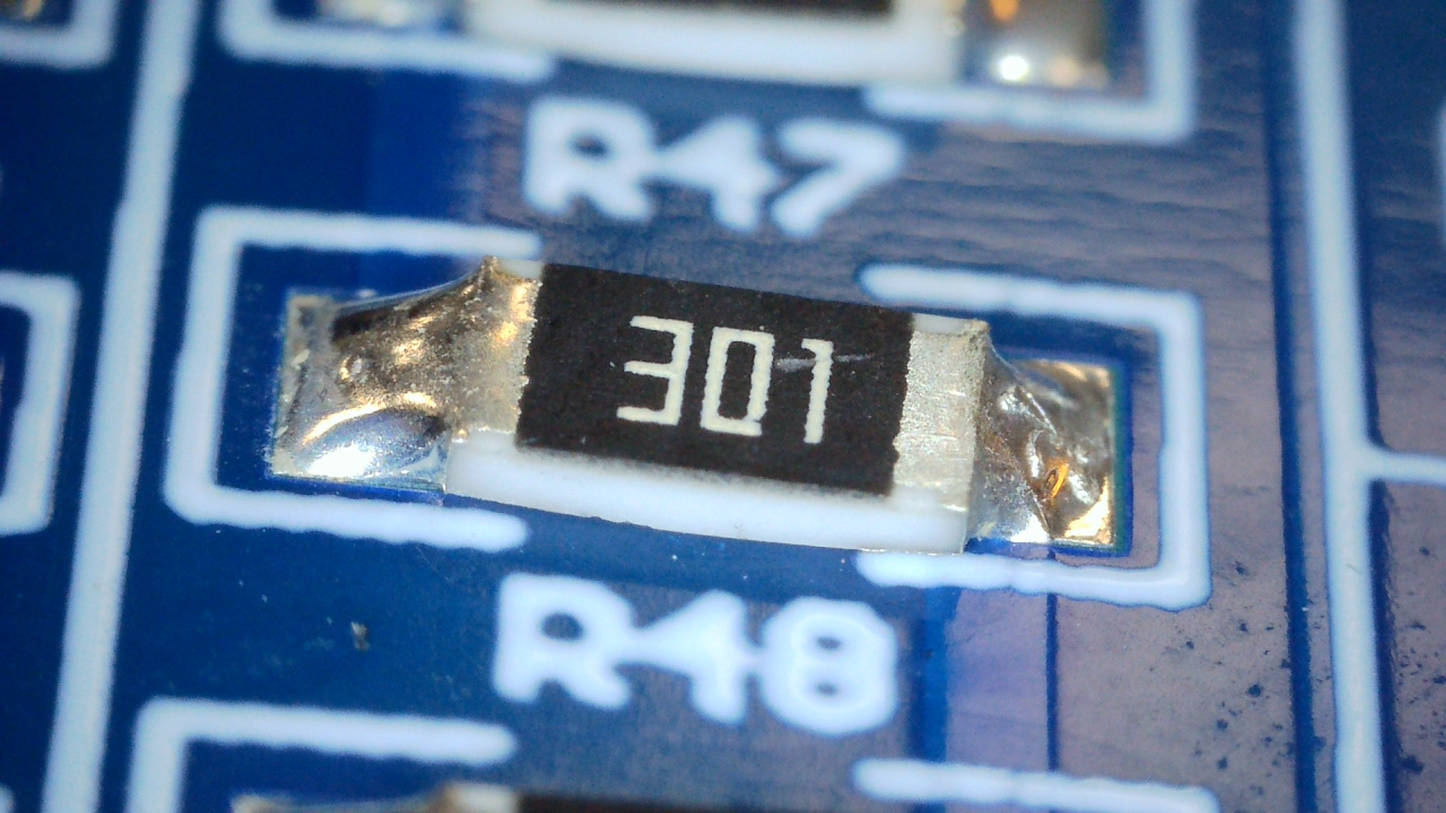NG: (1040, 458, 1068, 505)
OK: (280, 254, 539, 487), (896, 314, 1101, 538)
